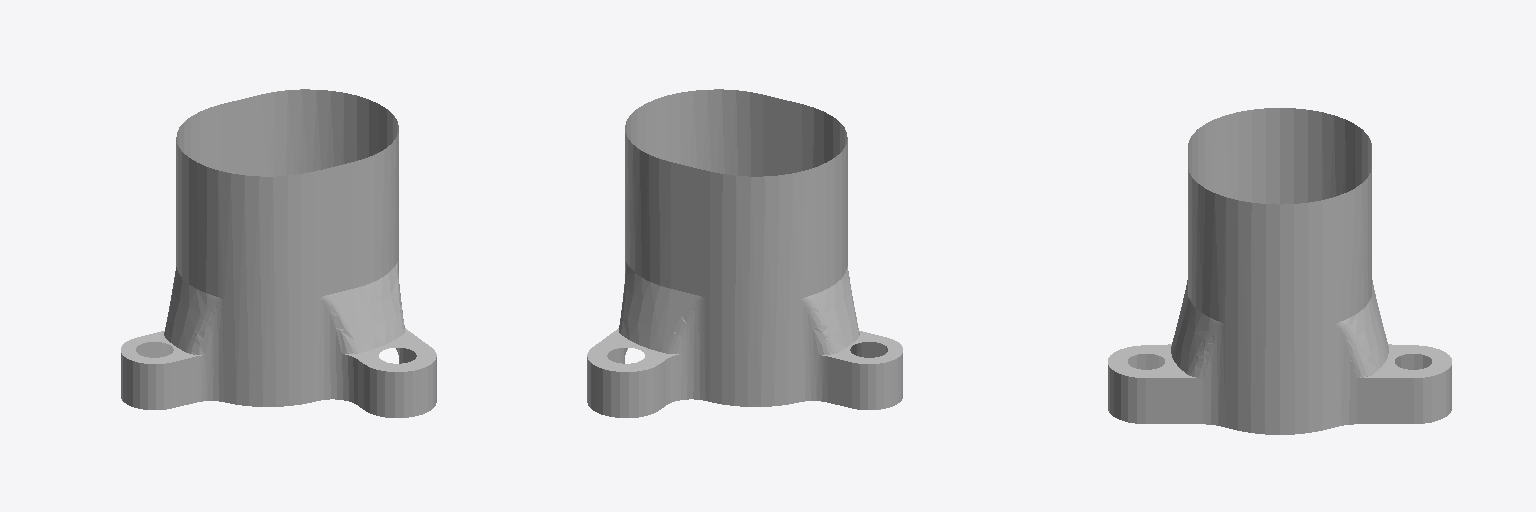
Rendered from motor_support.obj.
3 renders of one model, left to right at view 1: azimuth 30°, elevation 25°; view 2: azimuth 150°, elevation 25°; view 3: azimuth 270°, elevation 25°, orthographic.
Parts seen in each view (by area): view 1: Shell025; view 2: Shell025; view 3: Shell025.
Part boxes in pixels (x1,y1,x2,y2): Shell025: (121,89,436,417); Shell025: (587,89,902,417); Shell025: (1108,108,1451,434).
Size of the model in its own units: 47.5 by 40 by 54.21.